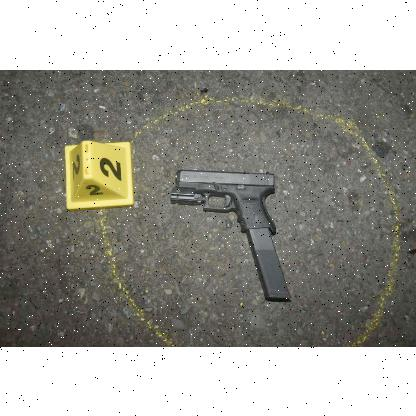gun: (165, 168, 292, 298)
